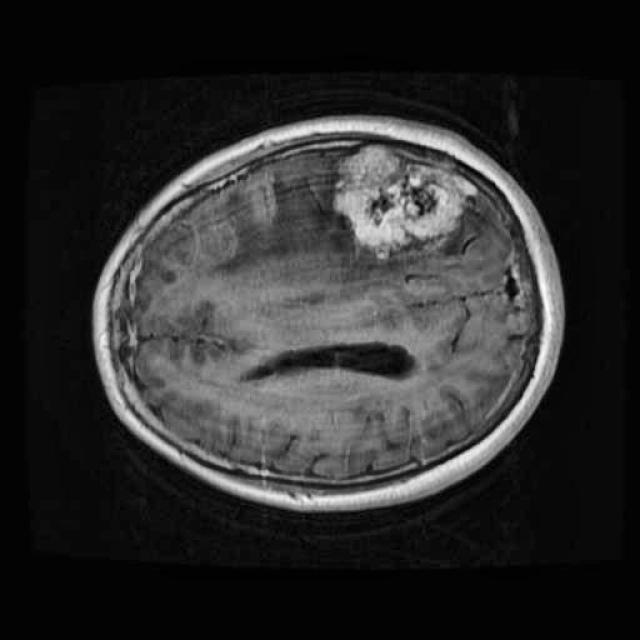Tumor: (321, 130, 486, 266)
